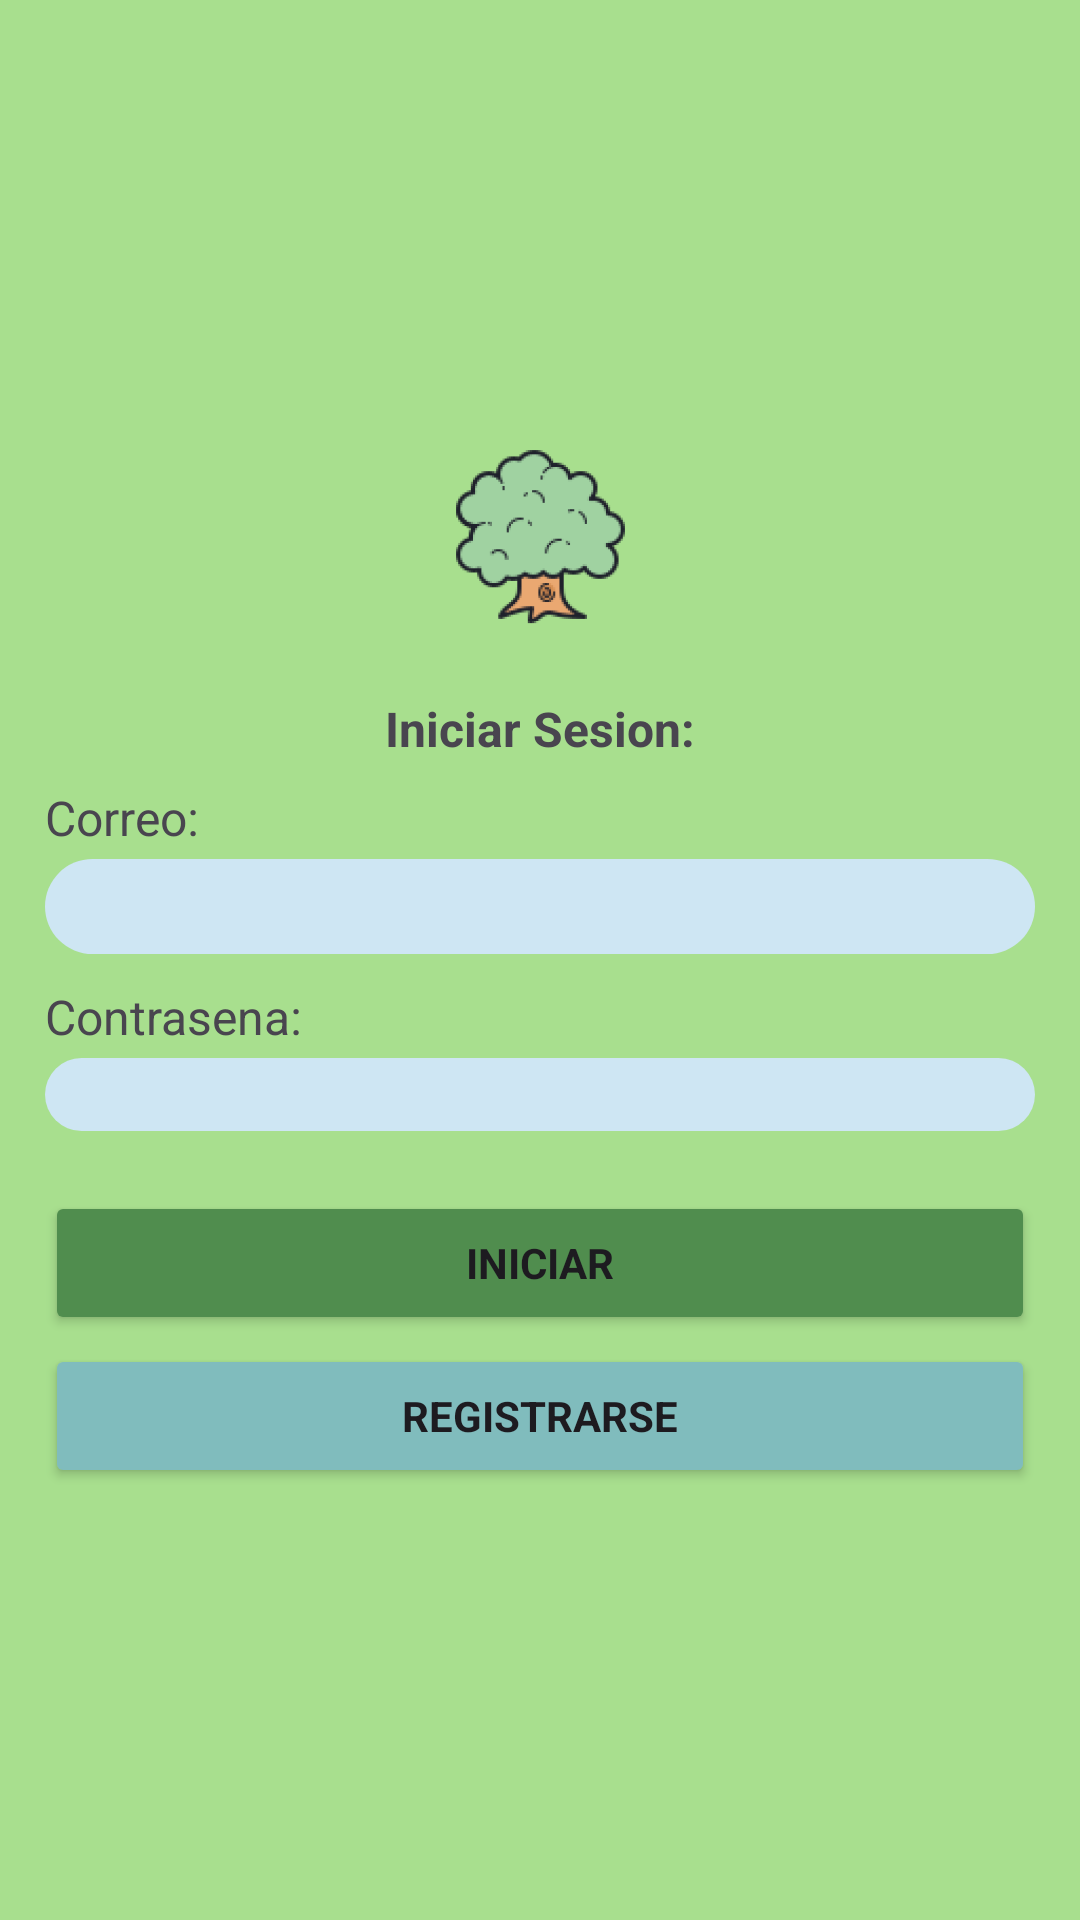

Point at icon controls on the screen. Image size 1080px×1920px, points as [x,y].
tree: [540,536]
